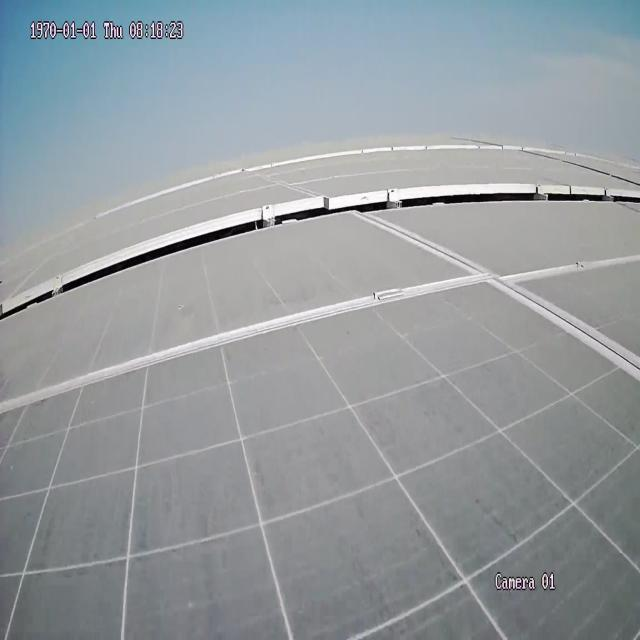interior panel: (4, 216, 640, 412)
outher panel: (1, 185, 639, 320)
